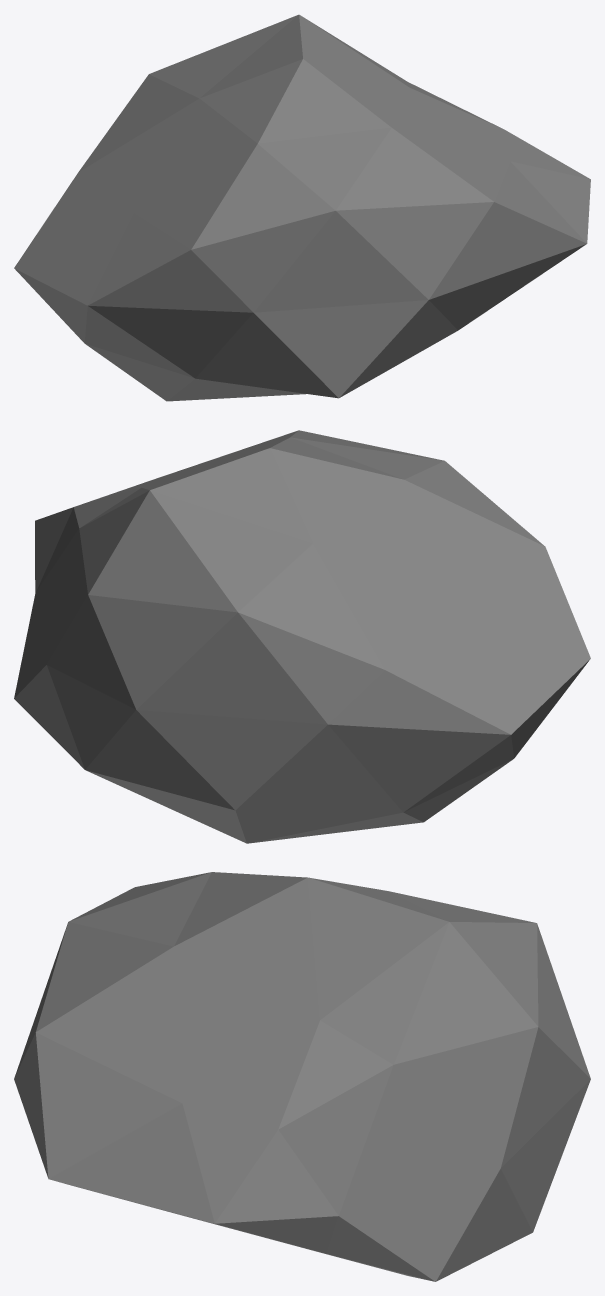
Rendered from rock-l-sharp_lod1.glb.
3 renders of one model, top to bottom at view 1: azimuth 30°, elevation 25°; view 2: azimuth 150°, elevation 25°; view 3: azimuth 270°, elevation 25°, orthographic. The views are drawn at different scales.
Visible parts, largest first — view 1: rock-l-sharp; view 2: rock-l-sharp; view 3: rock-l-sharp.
Part boxes in pixels (x1,y1,x2,y2): rock-l-sharp: (14,14,590,401); rock-l-sharp: (14,430,590,843); rock-l-sharp: (14,872,590,1281).
Bounding box in the file's own units: 4.26 × 2.49 × 3.37.
Materials: 1 (1 with a texture image).
